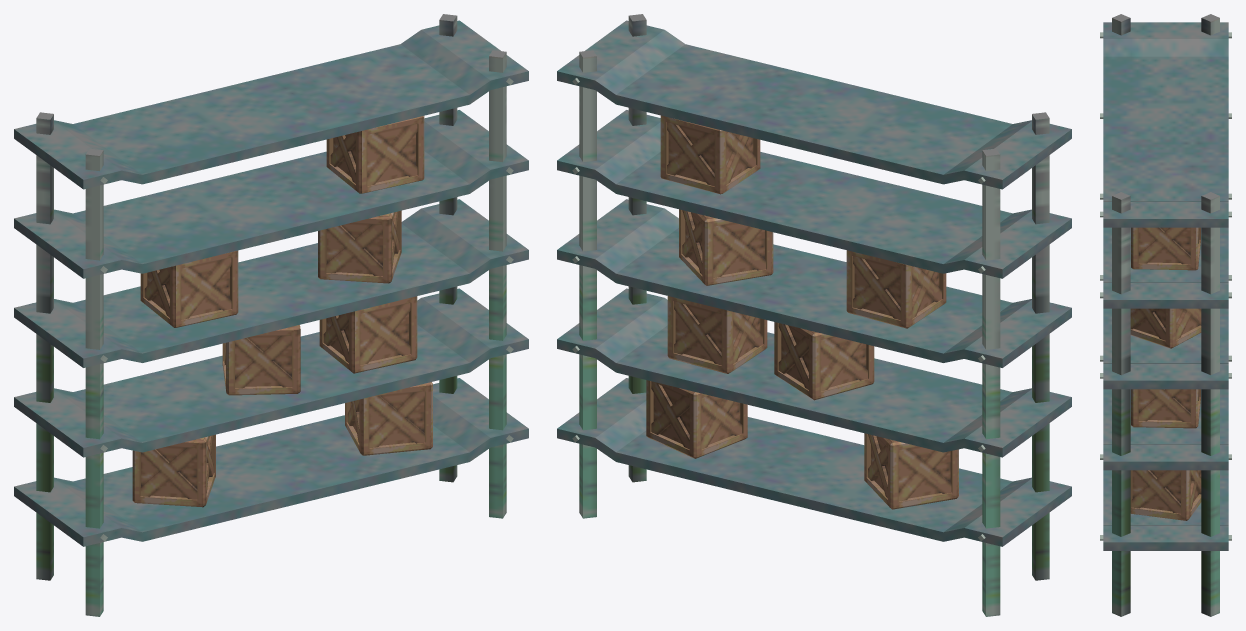
The model's file is stellage.fbx.
3 renders of one model, left to right at view 1: azimuth 30°, elevation 25°; view 2: azimuth 150°, elevation 25°; view 3: azimuth 270°, elevation 25°, orthographic. The views are drawn at different scales.
Parts seen in each view (by area): view 1: Cube.001; view 2: Cube.001; view 3: Cube.001.
Part boxes in pixels (x1=…): Cube.001: x1=14, y1=14, x2=528, y2=616; Cube.001: x1=557, y1=14, x2=1071, y2=616; Cube.001: x1=1100, y1=14, x2=1231, y2=616.
Bounding box in the file's own units: 741 × 733 × 210.
Materials: 1 (1 with a texture image).
